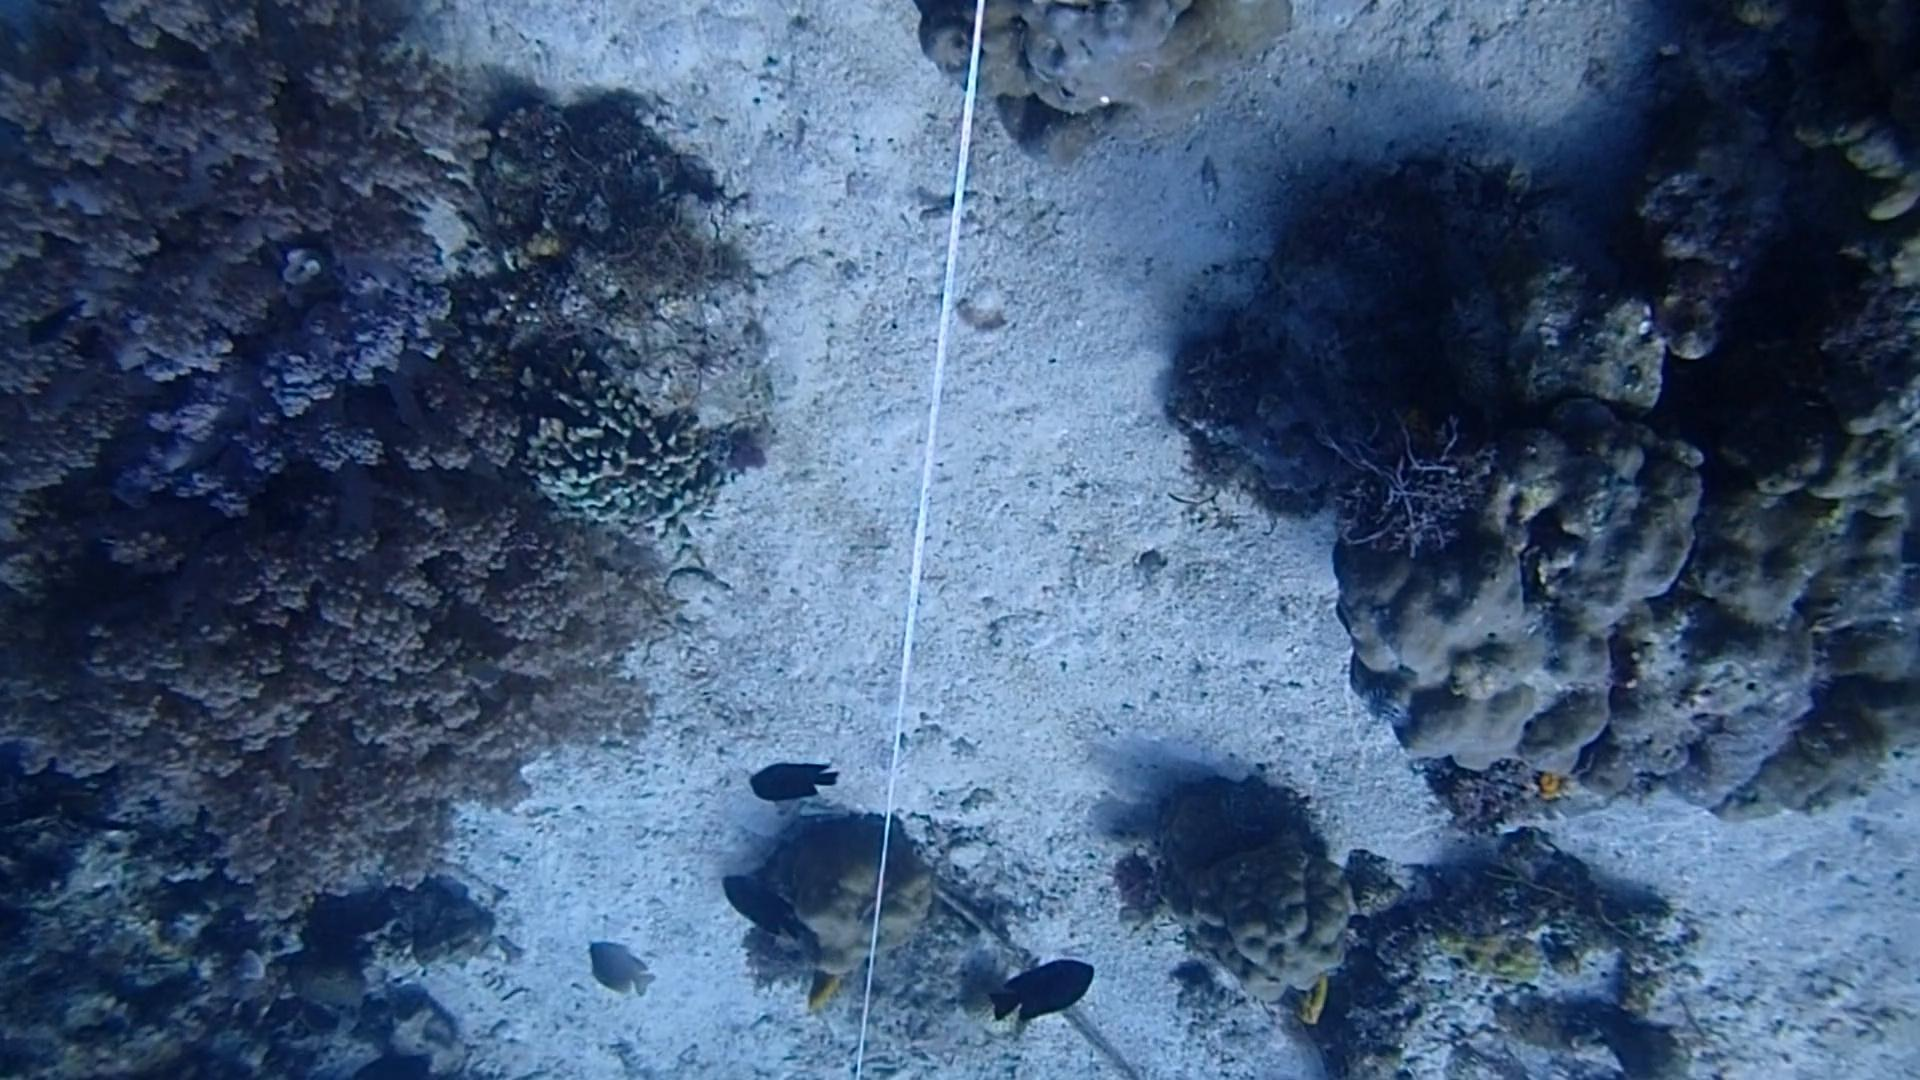Dark Fish: (702, 872, 811, 953), (737, 740, 851, 815), (996, 956, 1097, 1035), (20, 293, 111, 360)
Light Fish: (576, 922, 667, 1007)
